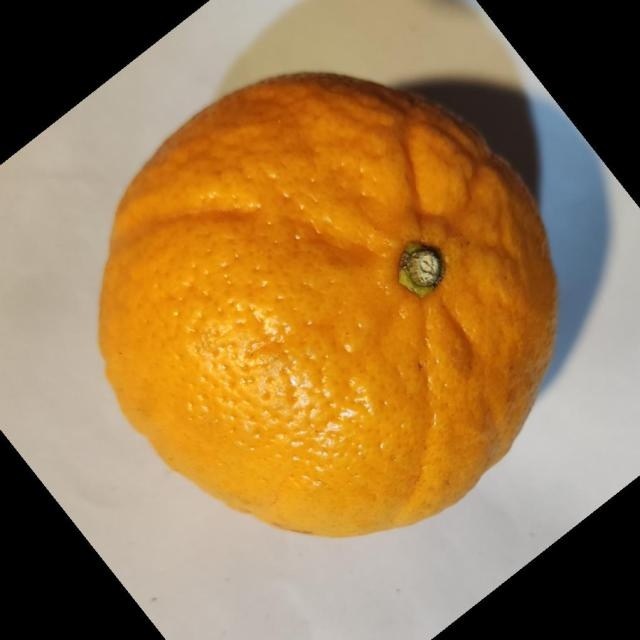agrume: (97, 70, 559, 538)
